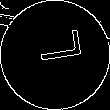L_W: (28, 36, 82, 74)
